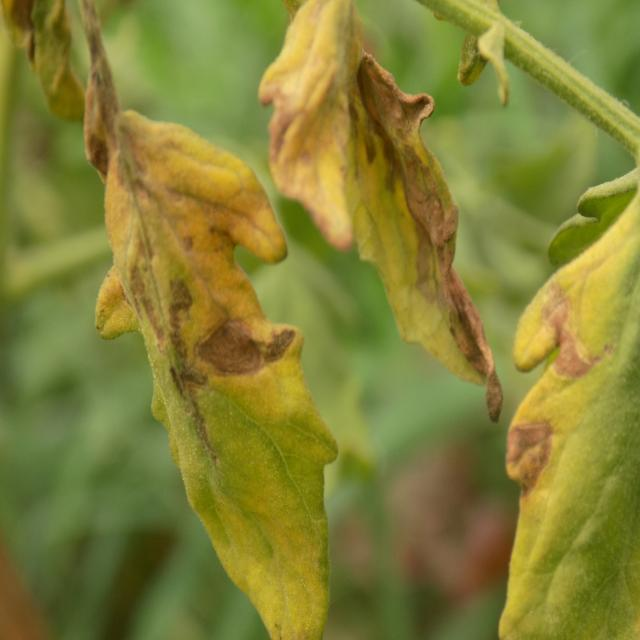tomato_early blight: (87, 0, 338, 640), (250, 0, 503, 420)
